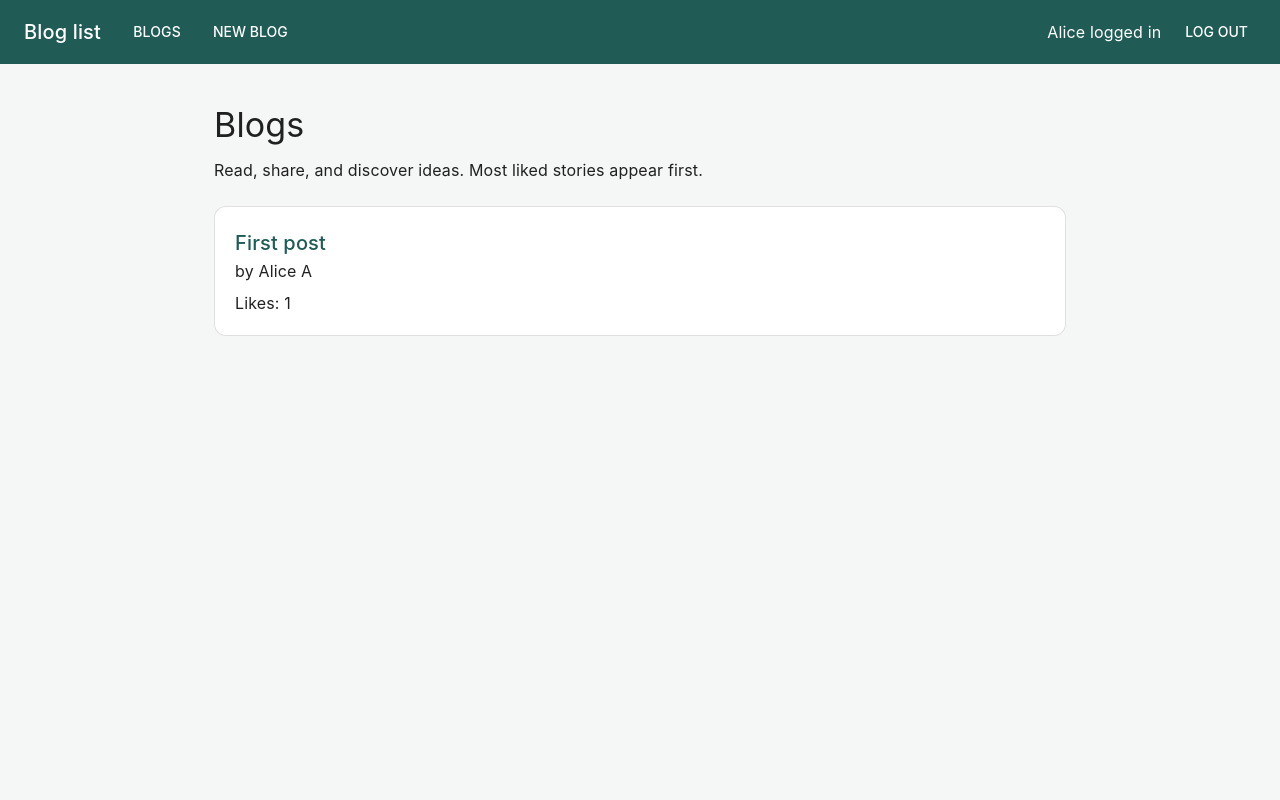
Blog list › leaves likes unchanged and reports a failed like
This screenshot has width=1280, height=800.
What coordinates should you click on to do the following:
click the link "First post"
I would click on:
 (280, 243)
Its box is [235,231,326,255].
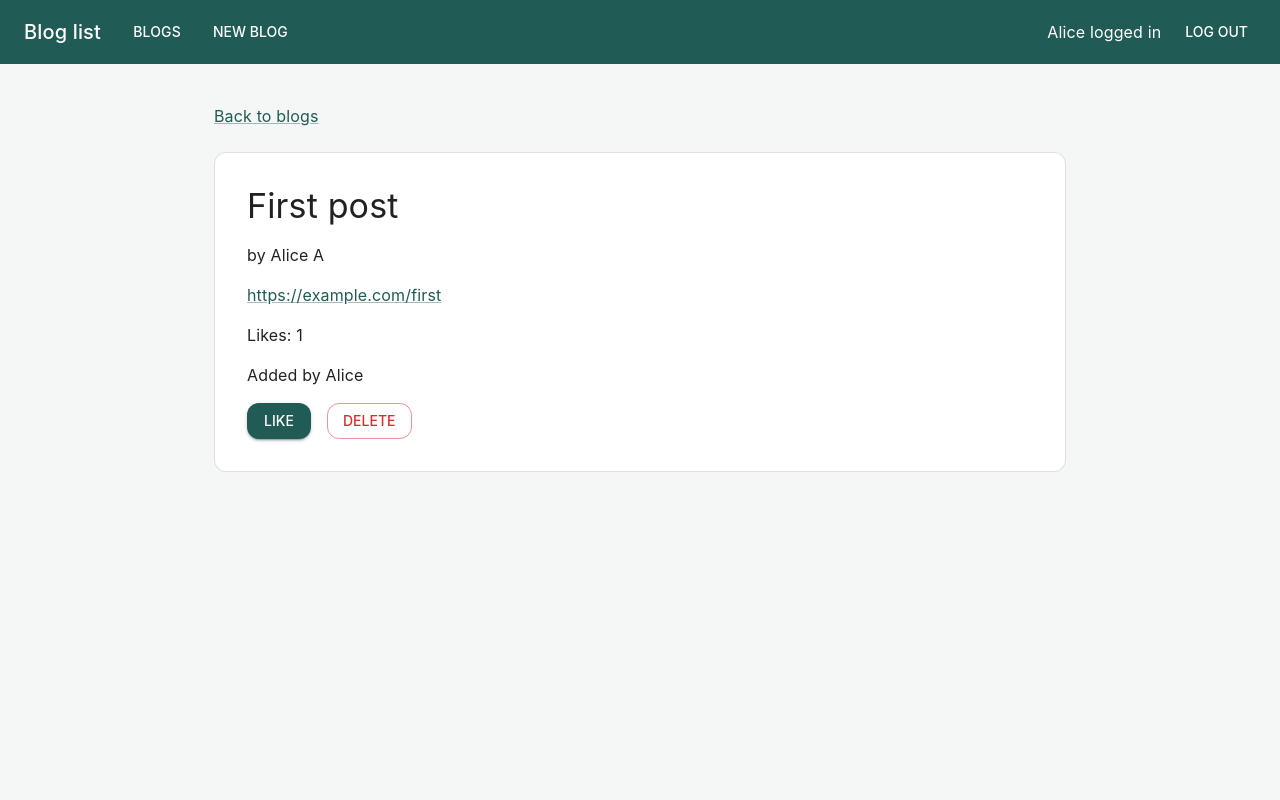
What coordinates should you click on to do the following:
click the button "Like"
I would click on:
 (279, 421)
Its box is [247,403,311,440].
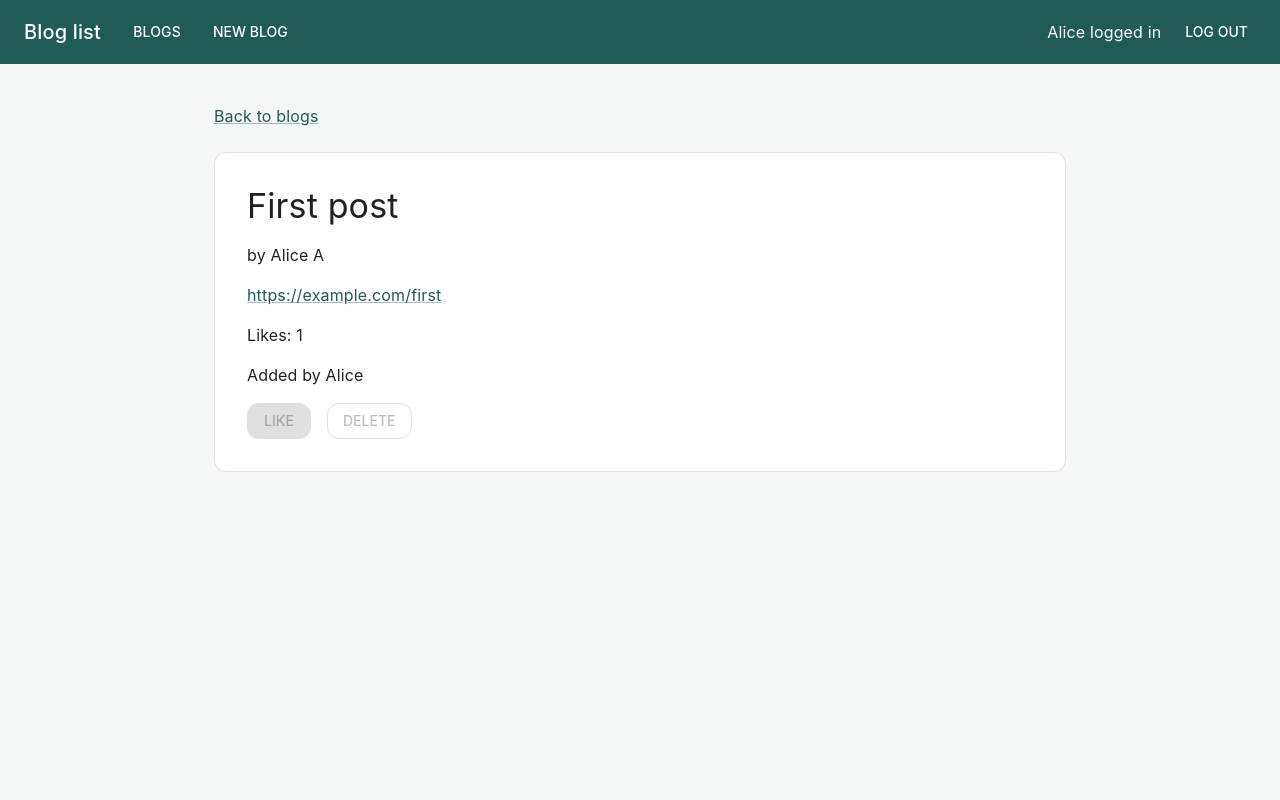
Check: the button "Like" is disabled
What coordinates should you click on to do the following:
click the button "Like"
I would click on:
 (279, 421)
Its box is [247,403,311,440].
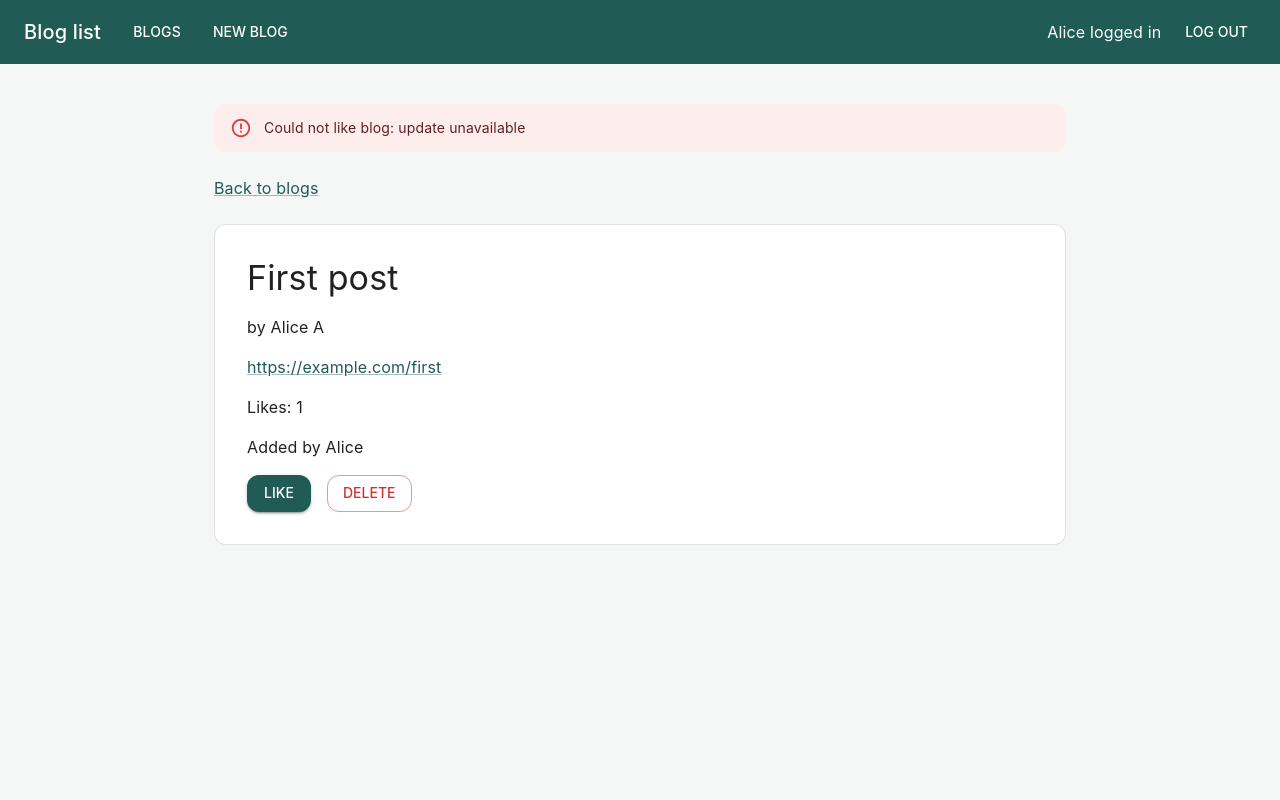
Check: the element that starts with "First post" shows "Likes: 1", box [214,224,1066,544]
Check: the button "Like" is enabled, box [247,475,311,512]
